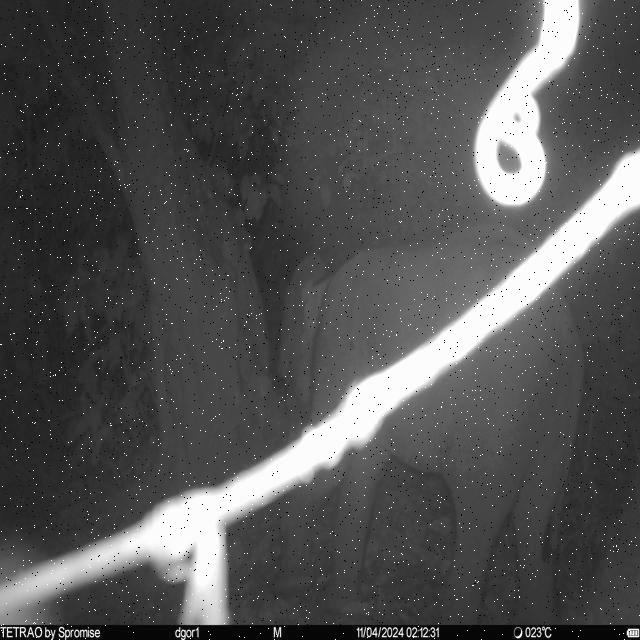calf: (270, 222, 588, 624)
ear: (274, 255, 326, 412)
